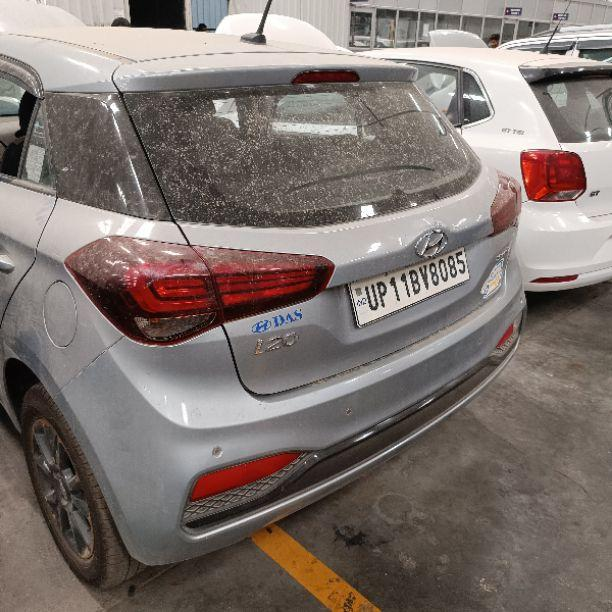license_plate: (346, 246, 470, 328)
